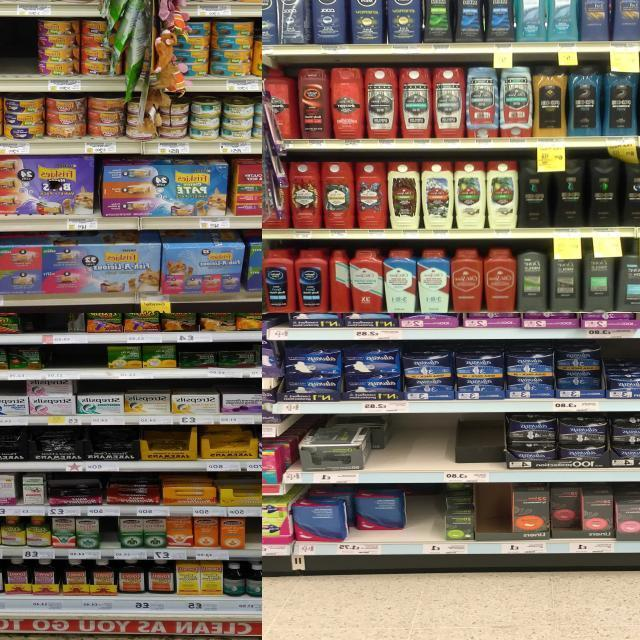Imprecise: (344, 486, 406, 544), (548, 487, 584, 543)
